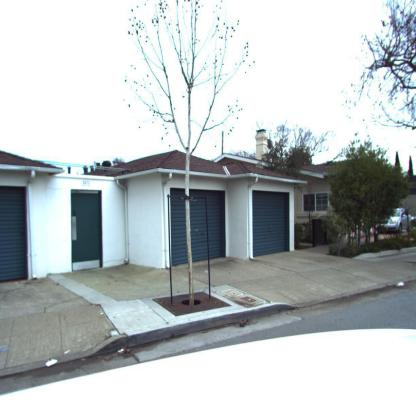car: (379, 208, 410, 235)
